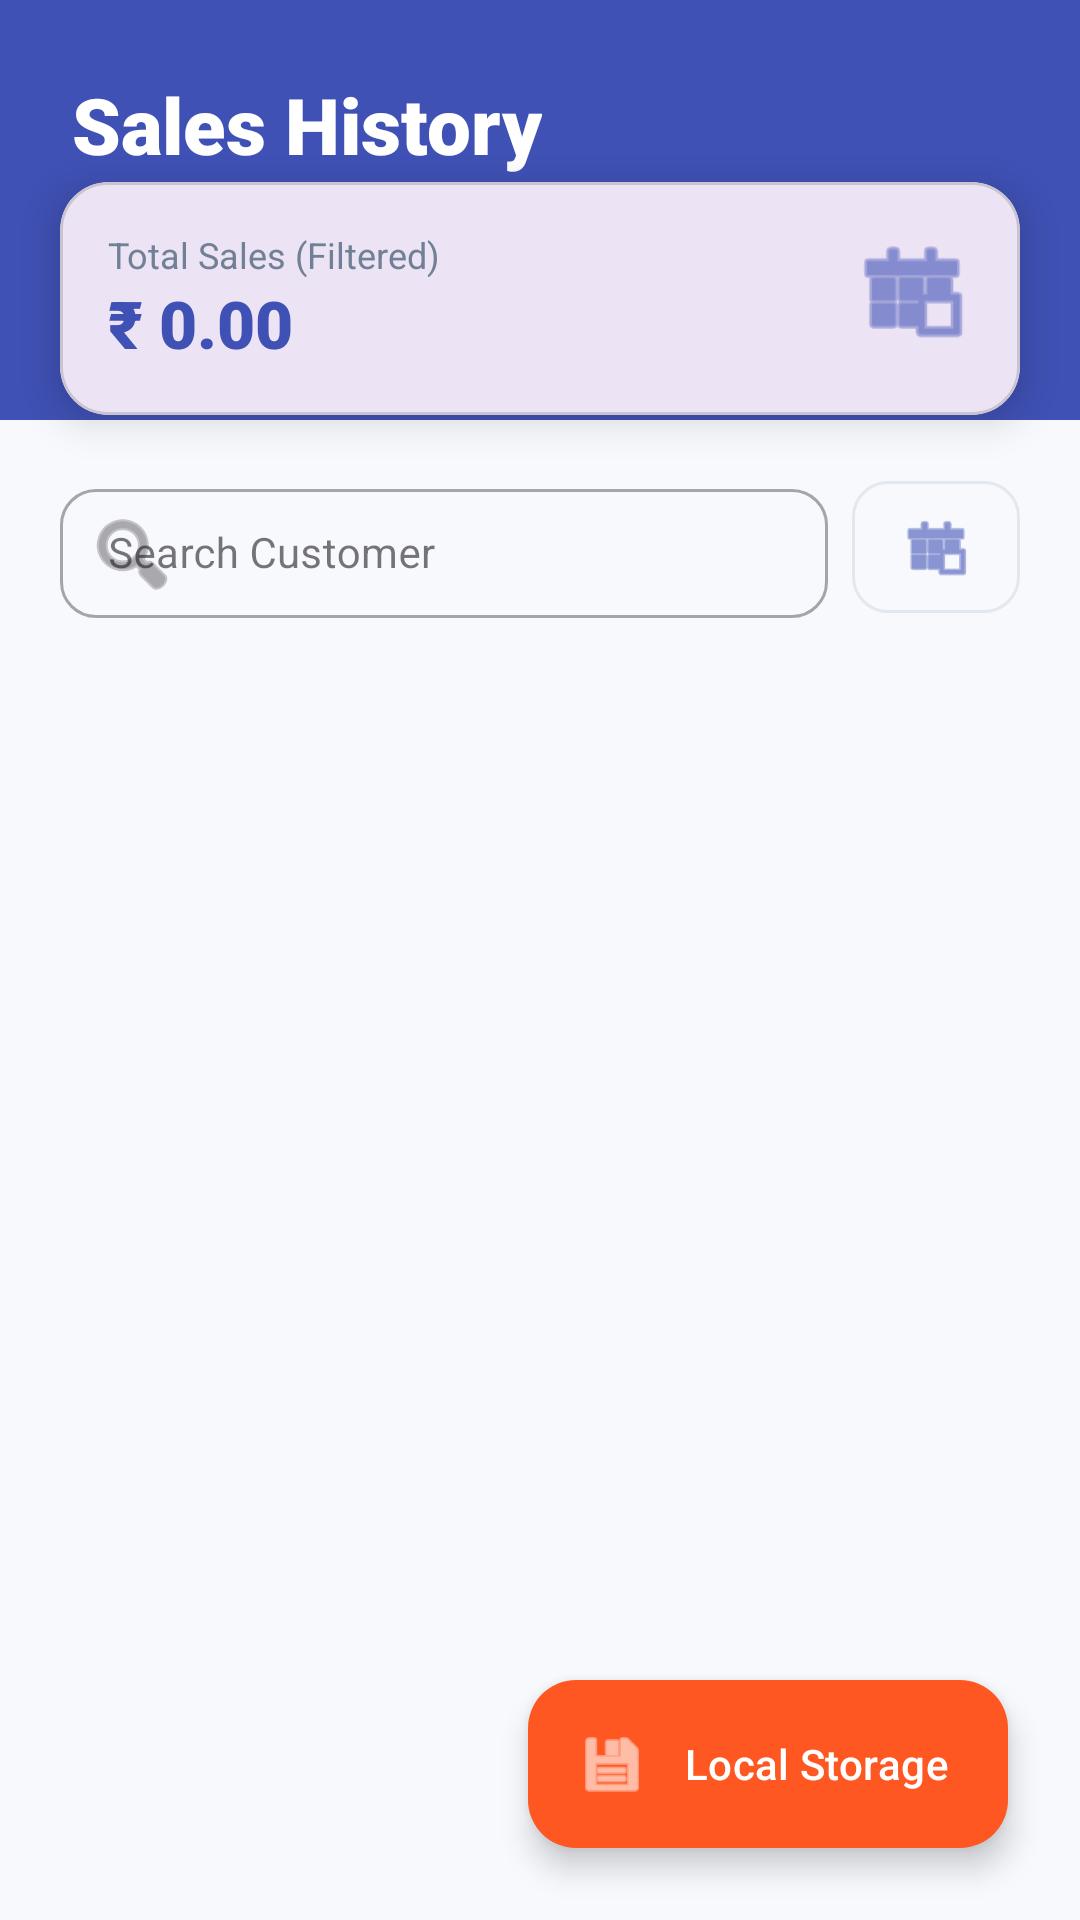

Where icons sit on this 1080x1920 app screen, as (x1, y1, x2, y2):
today: (864, 246, 962, 337), (907, 521, 966, 575)
